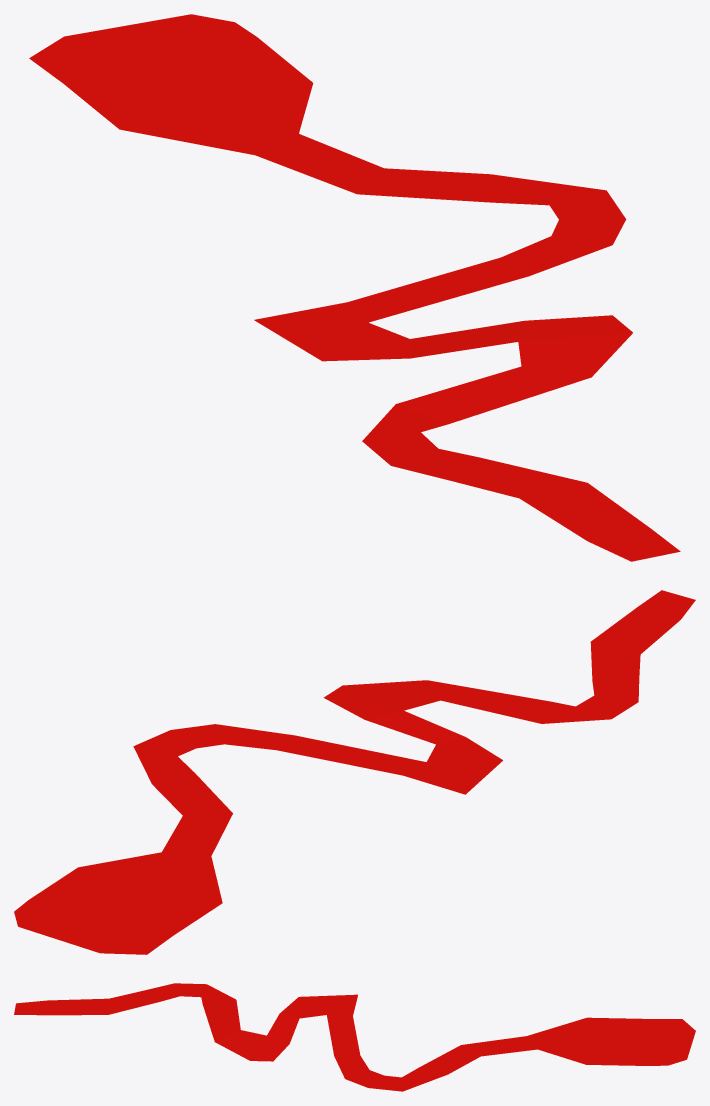
File: ForestFloor.fbx
3 renders of one model, top to bottom at view 1: azimuth 30°, elevation 25°; view 2: azimuth 150°, elevation 25°; view 3: azimuth 270°, elevation 25°, orthographic. The views are drawn at different scales.
Visible parts, largest first — view 1: Plane.001; view 2: Plane.001; view 3: Plane.001.
Boxes of the visible parts, x1,y1,x2,y2 form: Plane.001: (29, 14, 680, 561); Plane.001: (14, 590, 695, 954); Plane.001: (14, 983, 695, 1091).
Bounding box in the file's own units: 40353 × 233 × 107343.
